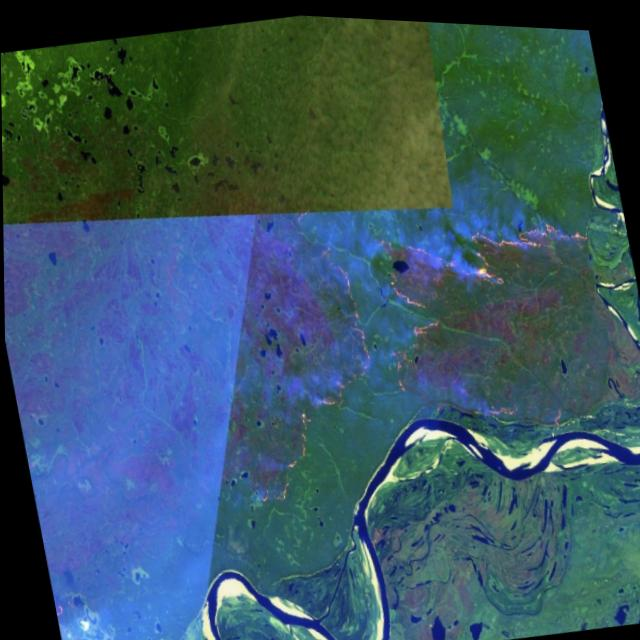fire: (361, 189, 620, 437), (205, 224, 397, 511), (49, 585, 79, 630)
